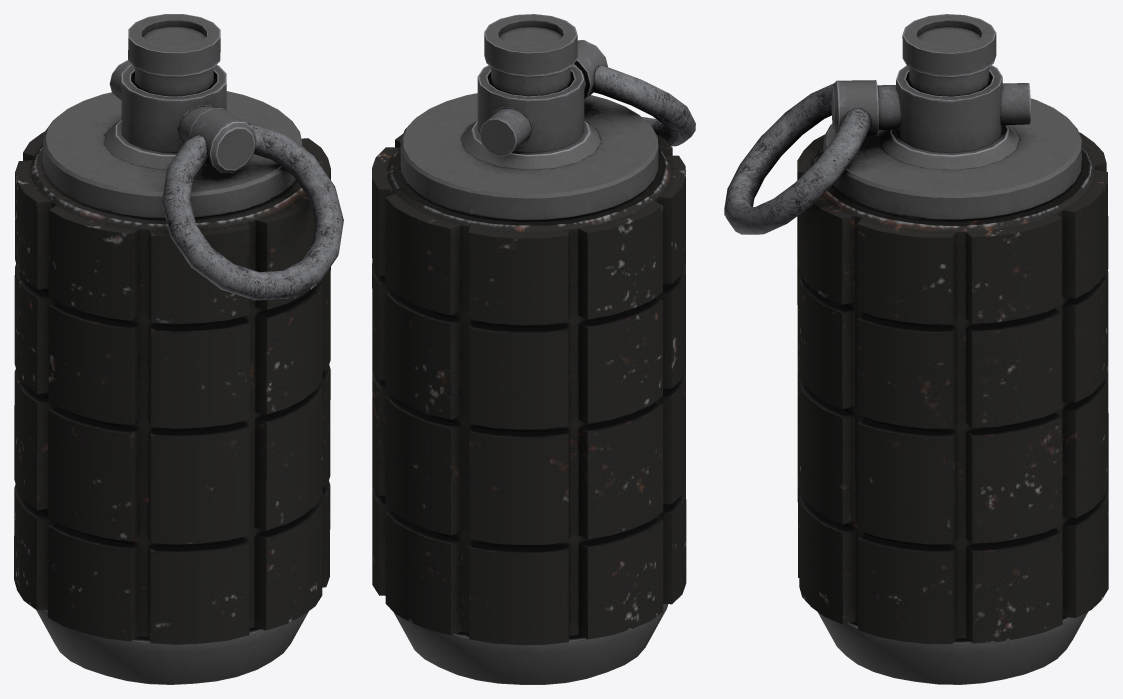
Rendered from frag_grenade.obj.
3 views of the same model, side by side, from view 1: azimuth 30°, elevation 25°; view 2: azimuth 150°, elevation 25°; view 3: azimuth 270°, elevation 25° (orthographic).
Bounding box in the file's own units: 0.0637 × 0.1359 × 0.0786.
1 material, 1 textured.
